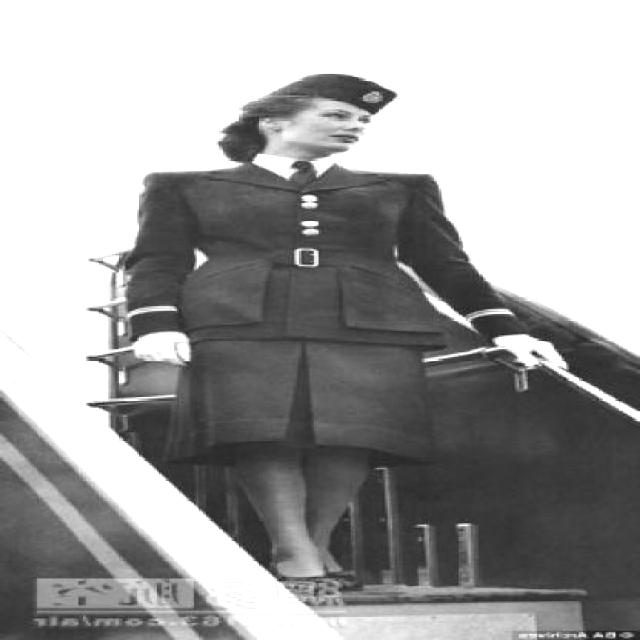face_nomask: (283, 103, 385, 159)
hand_glove: (495, 335, 574, 371), (131, 331, 198, 366)
head_nohelmet: (285, 74, 397, 109)
person: (92, 63, 571, 612)
